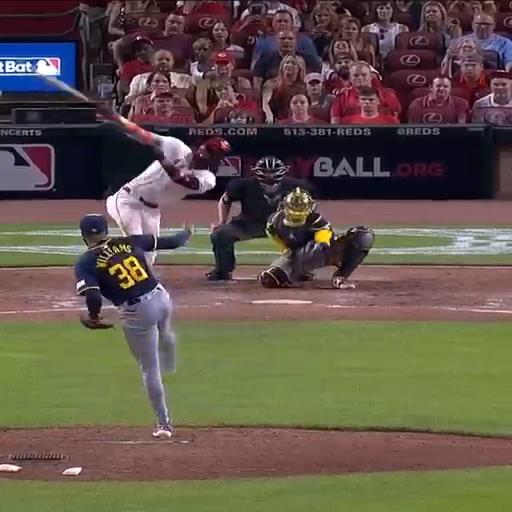bat: (101, 107, 155, 145), (39, 75, 91, 102)
